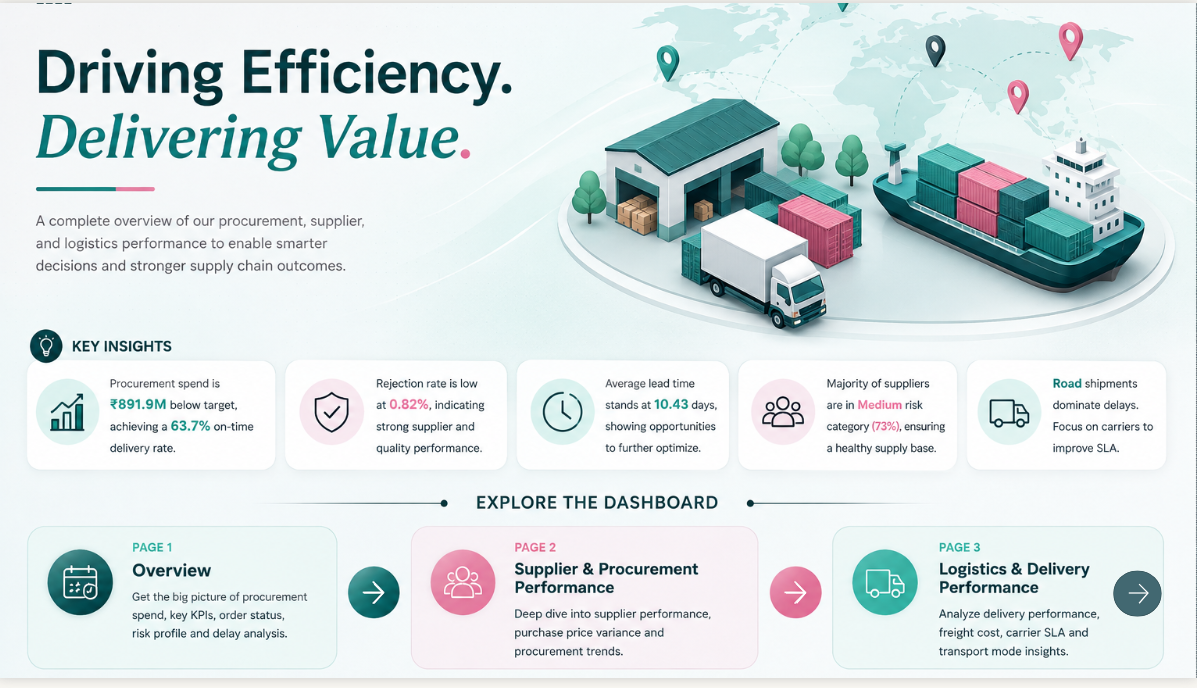

This screenshot's page, from the dashboard's own definition file:
{"tool":"powerbi","page":{"name":"Home","canvas":[1920,1080],"ordinal":0},"visuals":[{"type":"actionButton","box":[535.7,897.6,133.3,94],"z":0},{"type":"actionButton","box":[1211.9,897.6,133.3,94],"z":1000},{"type":"shape","box":[1786.9,908.3,77.4,73.8],"z":2000},{"type":"actionButton","box":[1759.5,898.8,133.3,94],"z":3000}]}

Visuals, with their boxes in screenshot pixels (x1, y1, x2, y2), scaled from the page's 1920x1080 canvas onto the 1197x688 screenshot:
actionButton: 334:572:417:632
actionButton: 756:572:839:632
shape: 1114:579:1162:626
actionButton: 1097:573:1180:632
